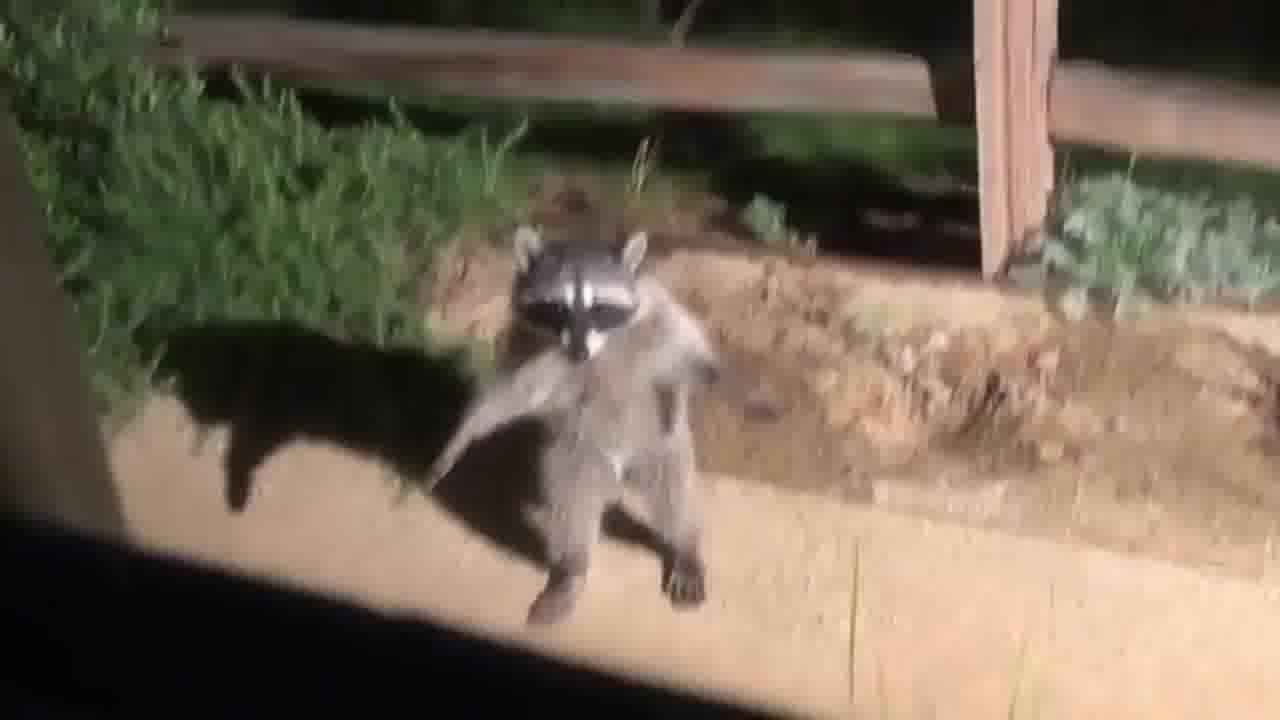raccoon: (431, 223, 788, 631)
